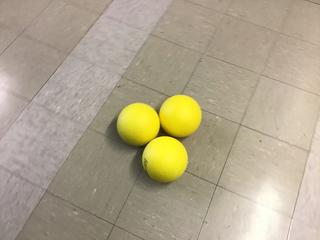power_cell: (143, 135, 189, 186), (115, 101, 162, 147), (161, 93, 203, 141)
